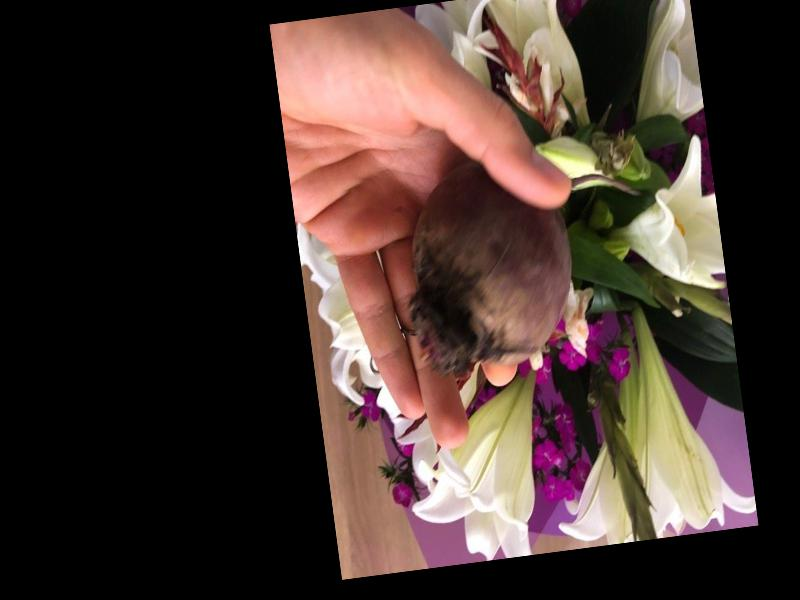Beet: (397, 143, 660, 379)
